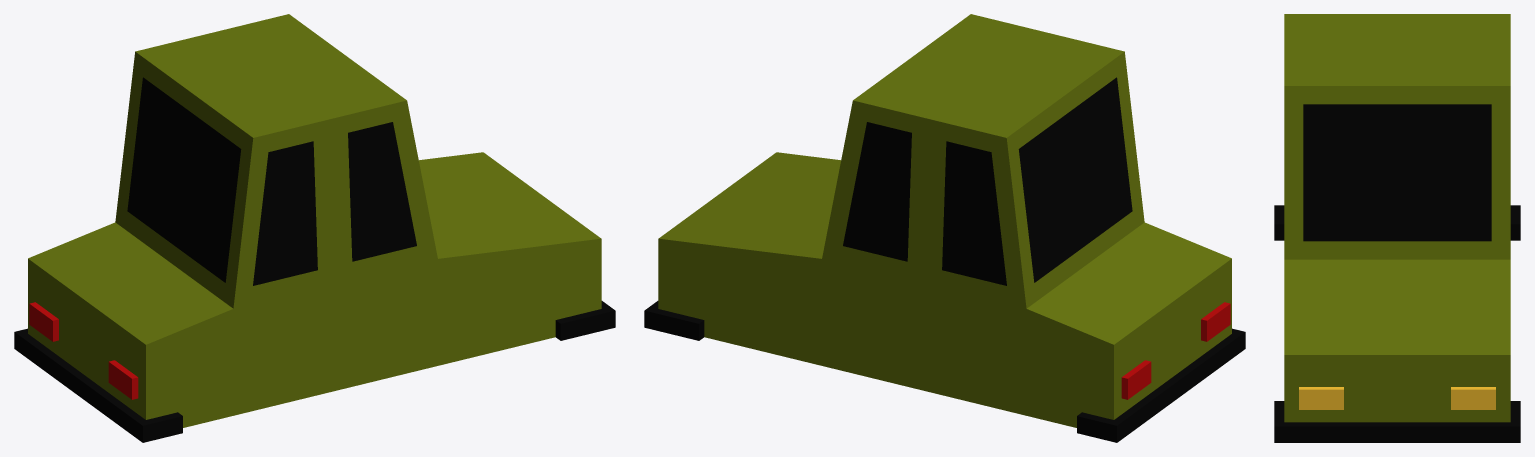
Rendered from CityCar_Sedan_01.fbx.
3 renders of one model, left to right at view 1: azimuth 30°, elevation 25°; view 2: azimuth 150°, elevation 25°; view 3: azimuth 270°, elevation 25°, orthographic. The views are drawn at different scales.
Parts seen in each view (by area): view 1: CityCar_Sedan_01; view 2: CityCar_Sedan_01; view 3: CityCar_Sedan_01.
Part boxes in pixels (x1,y1,x2,y2): CityCar_Sedan_01: (14, 14, 615, 442); CityCar_Sedan_01: (644, 14, 1245, 442); CityCar_Sedan_01: (1274, 14, 1520, 442).
Bounding box in the file's own units: 0.4902 × 0.2706 × 0.2307.
